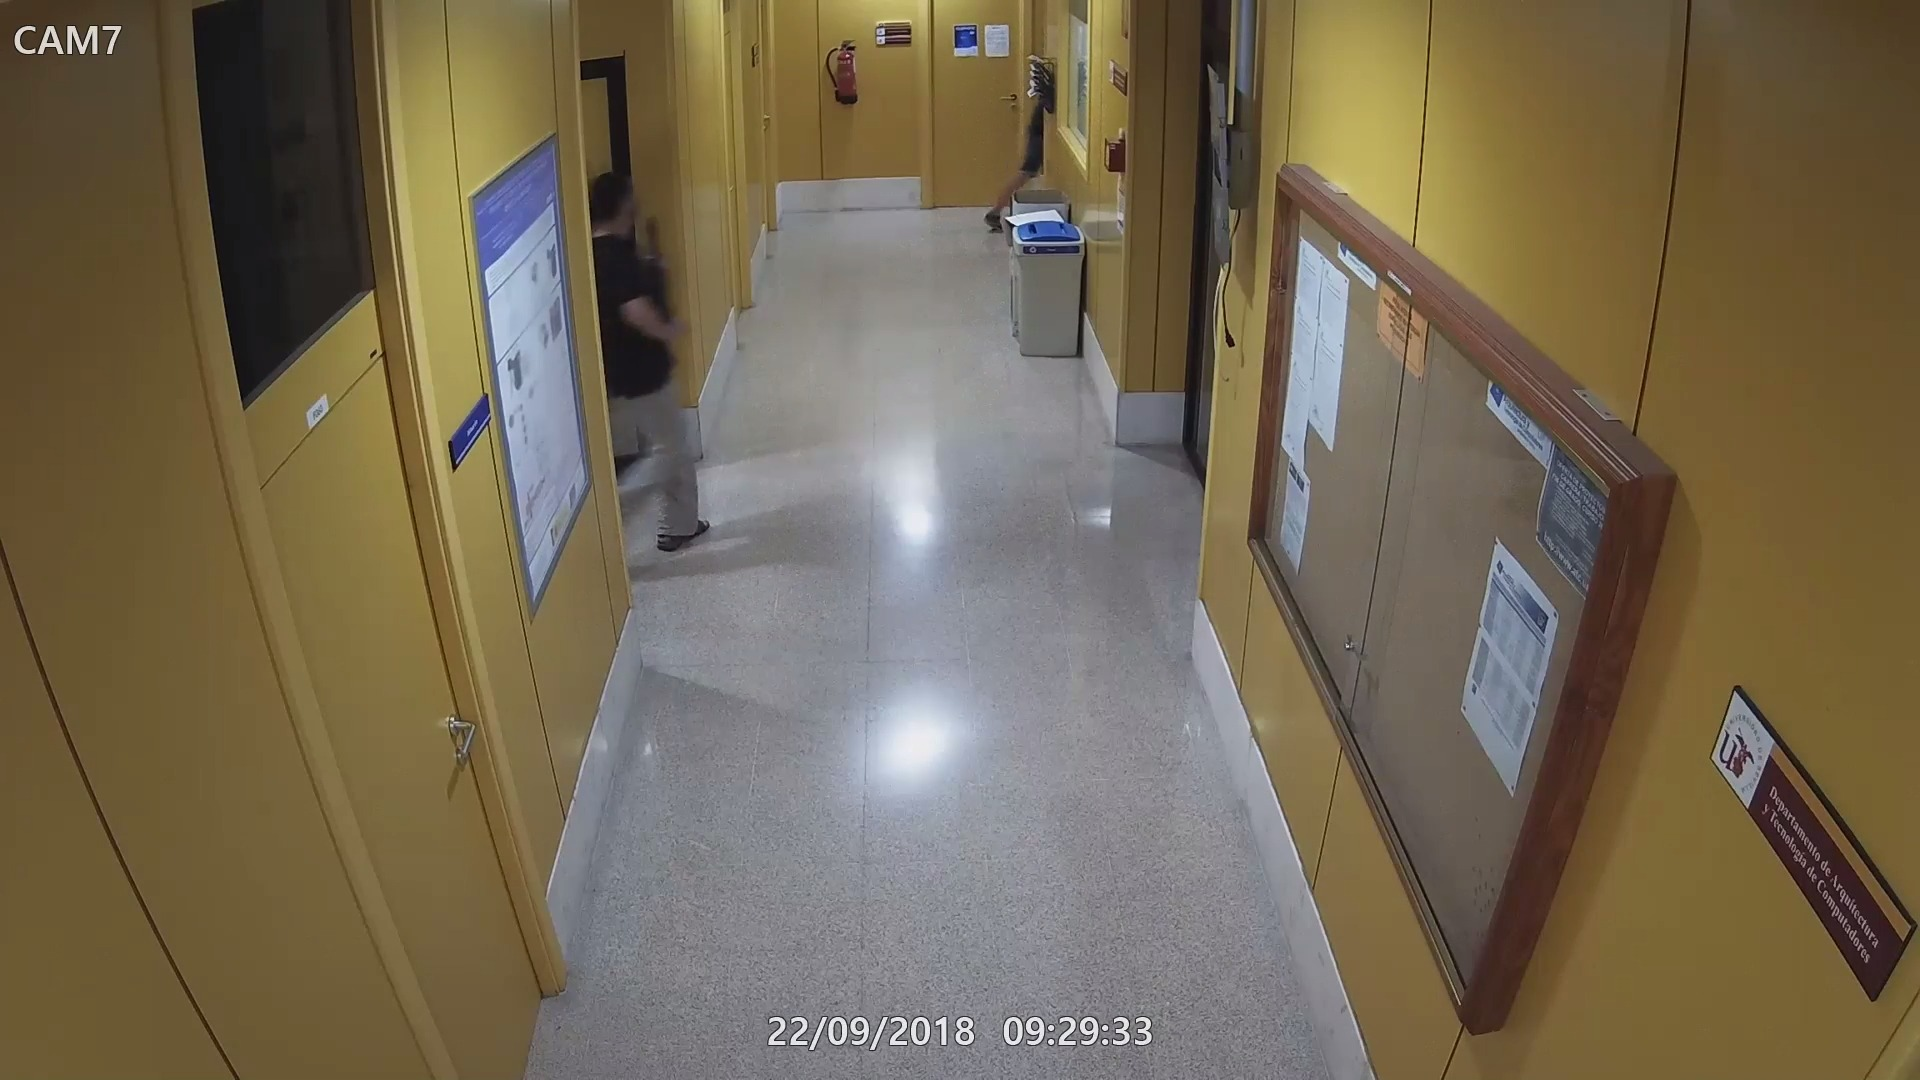Short_rifle: (644, 216, 684, 355)
